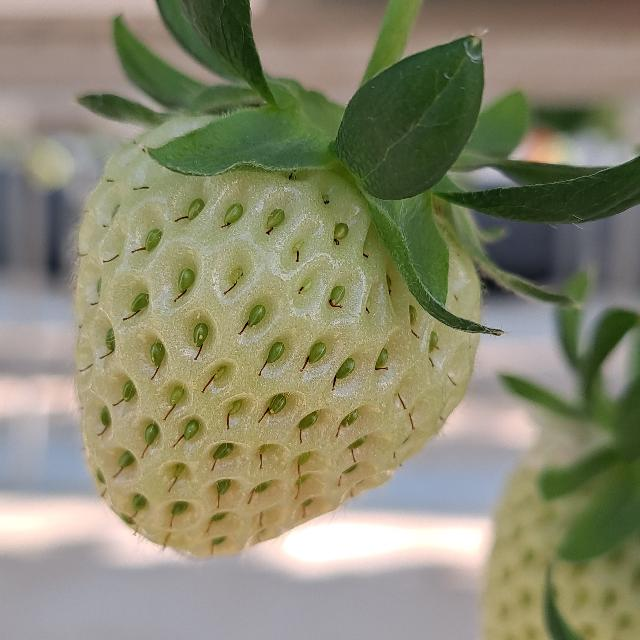Health_25: (75, 116, 481, 556)
